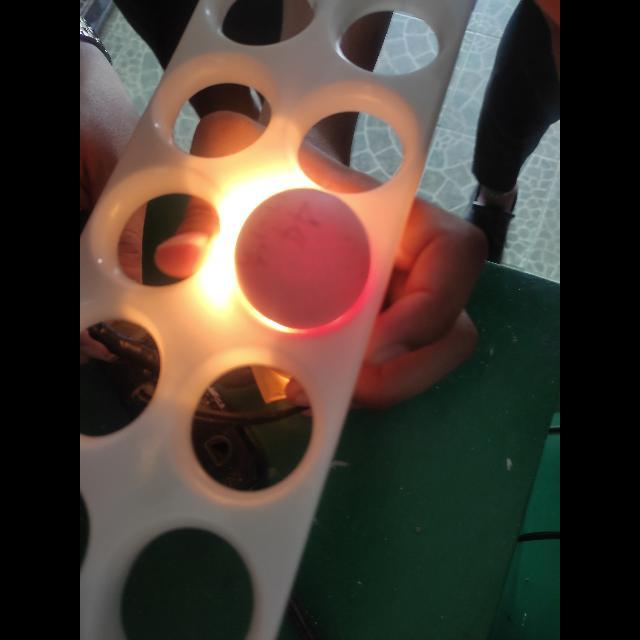Fertile: (234, 186, 374, 332)
